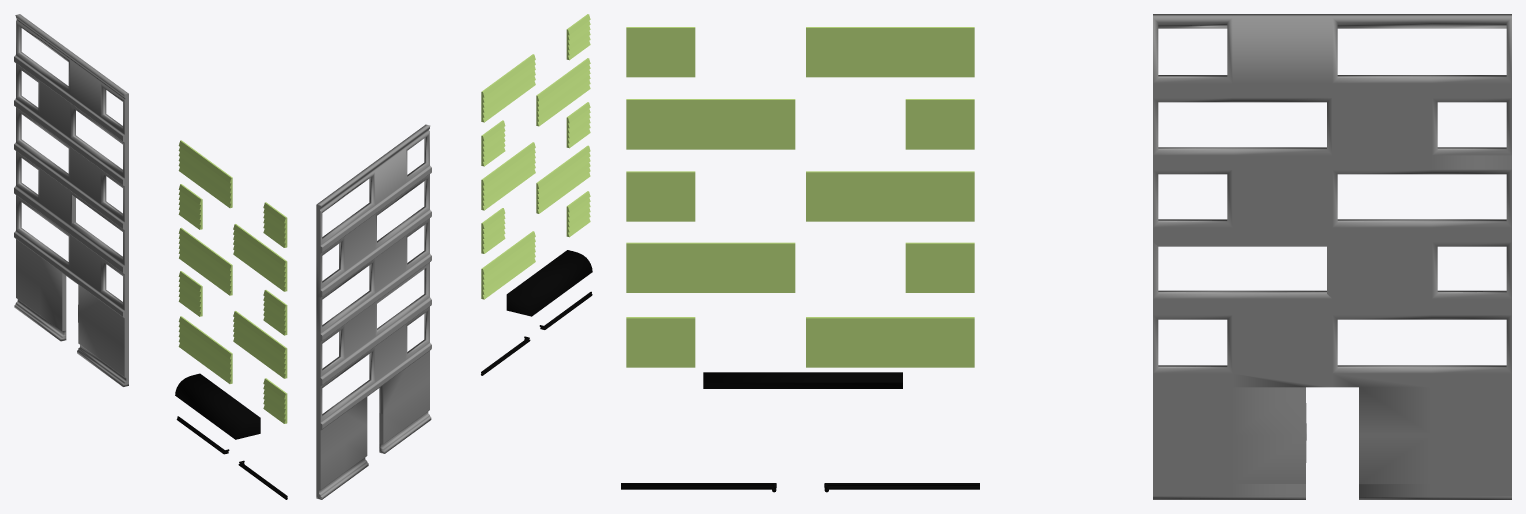
File: Fachada01_Low.fbx
The picture shows the model from 3 angles, left to right: view 1: azimuth 30°, elevation 25°; view 2: azimuth 150°, elevation 25°; view 3: azimuth 270°, elevation 25°; orthographic projection. The views are drawn at different scales.
Parts seen in each view (by area): view 1: Building01_Fachada01_LOW, Building01_Fachada01_Cortinas_LOW, Building01_Fachada01_Toldo_High, Building01_Fachada01_Pipes_LOW; view 2: Building01_Fachada01_LOW, Building01_Fachada01_Cortinas_LOW, Building01_Fachada01_Toldo_High, Building01_Fachada01_Pipes_LOW; view 3: Building01_Fachada01_LOW, Building01_Fachada01_Cortinas_LOW, Building01_Fachada01_Toldo_High, Building01_Fachada01_Pipes_LOW.
Part boxes in pixels (<box>): Building01_Fachada01_LOW: <box>14,14,128,386</box>; Building01_Fachada01_Cortinas_LOW: <box>178,140,287,423</box>; Building01_Fachada01_Toldo_High: <box>175,373,260,439</box>; Building01_Fachada01_Pipes_LOW: <box>176,416,287,499</box>; Building01_Fachada01_LOW: <box>316,124,431,499</box>; Building01_Fachada01_Cortinas_LOW: <box>481,14,590,299</box>; Building01_Fachada01_Toldo_High: <box>506,250,592,316</box>; Building01_Fachada01_Pipes_LOW: <box>481,291,592,375</box>; Building01_Fachada01_LOW: <box>1153,14,1511,499</box>; Building01_Fachada01_Cortinas_LOW: <box>626,27,974,367</box>; Building01_Fachada01_Toldo_High: <box>703,372,902,388</box>; Building01_Fachada01_Pipes_LOW: <box>621,483,979,492</box>.
Size of the model in its own units: 218 by 2000 by 3350.
